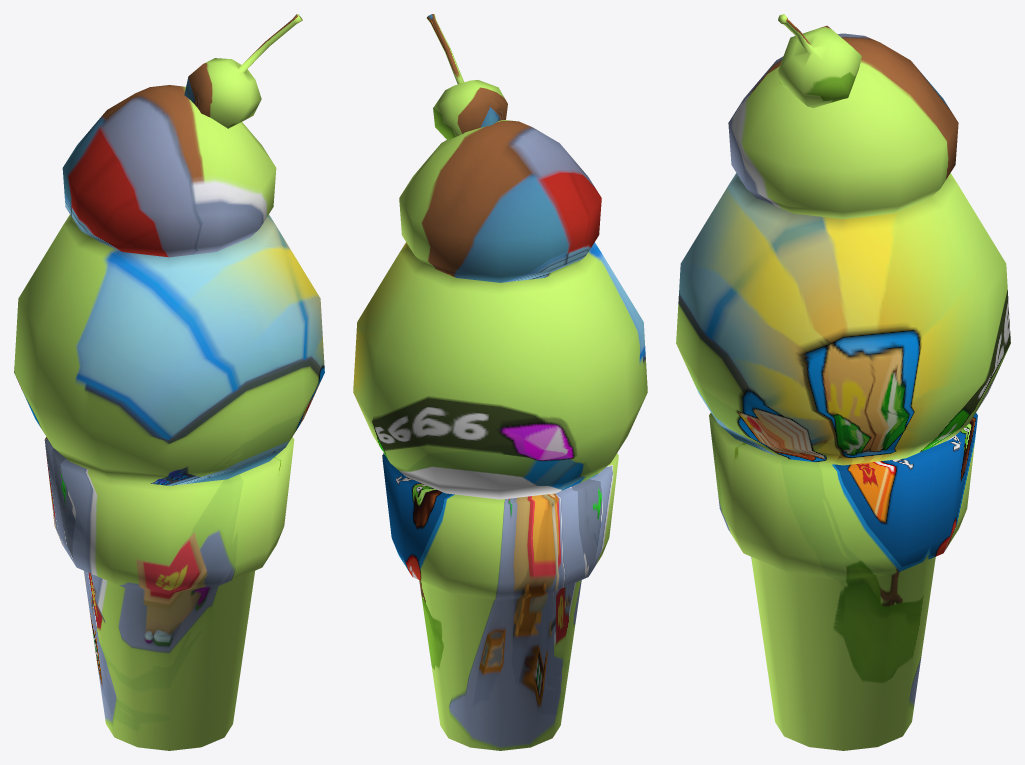
The model's file is DHP_MOD_Ice_cream_treat.fbx.
3 renders of one model, left to right at view 1: azimuth 30°, elevation 25°; view 2: azimuth 150°, elevation 25°; view 3: azimuth 270°, elevation 25°, orthographic. The views are drawn at different scales.
Visible parts, largest first — view 1: DHP_MOD_Ice_cream_treat; view 2: DHP_MOD_Ice_cream_treat; view 3: DHP_MOD_Ice_cream_treat.
Boxes of the visible parts, x1,y1,x2,y2 form: DHP_MOD_Ice_cream_treat: (14, 14, 324, 750); DHP_MOD_Ice_cream_treat: (353, 14, 647, 750); DHP_MOD_Ice_cream_treat: (676, 14, 1010, 750).
Size of the model in its own units: 0.2677 by 0.675 by 0.2677.
